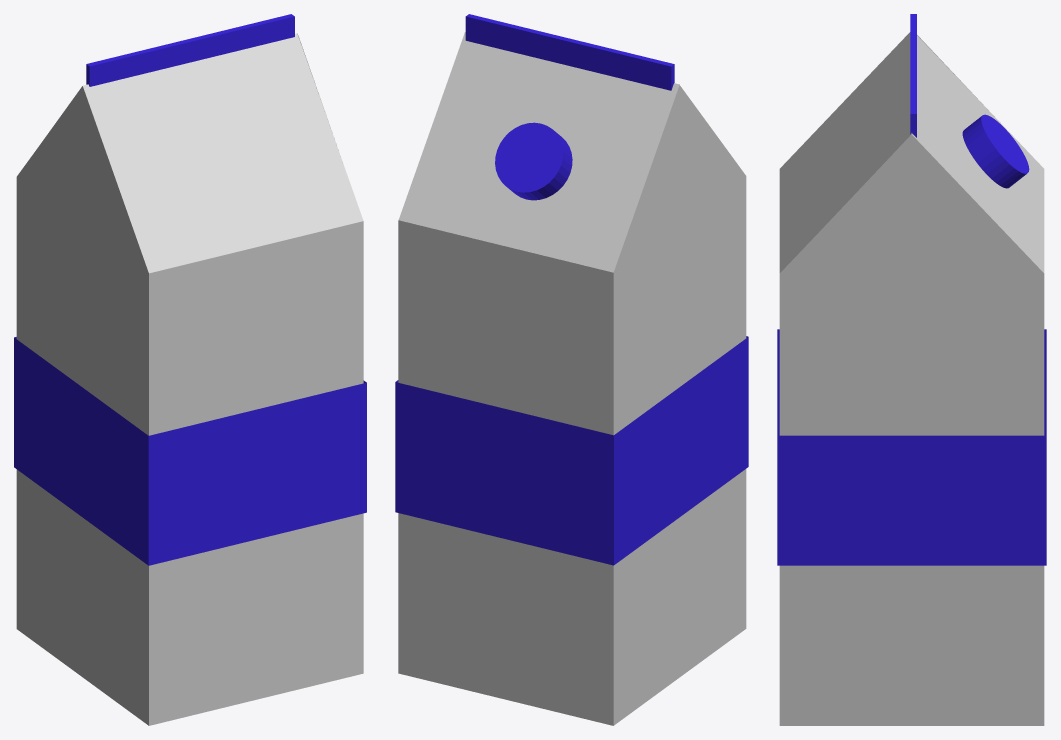
Rendered from milk_box.glb.
3 views of the same model, side by side, from view 1: azimuth 30°, elevation 25°; view 2: azimuth 150°, elevation 25°; view 3: azimuth 270°, elevation 25° (orthographic).
Parts seen in each view (by area): view 1: Cylinder.001; view 2: Cylinder.001; view 3: Cylinder.001.
Boxes of the visible parts, x1,y1,x2,y2 form: Cylinder.001: [14, 14, 366, 725]; Cylinder.001: [395, 14, 748, 725]; Cylinder.001: [777, 14, 1046, 725].
Bounding box in the file's own units: 1.32 × 3.52 × 1.41.
